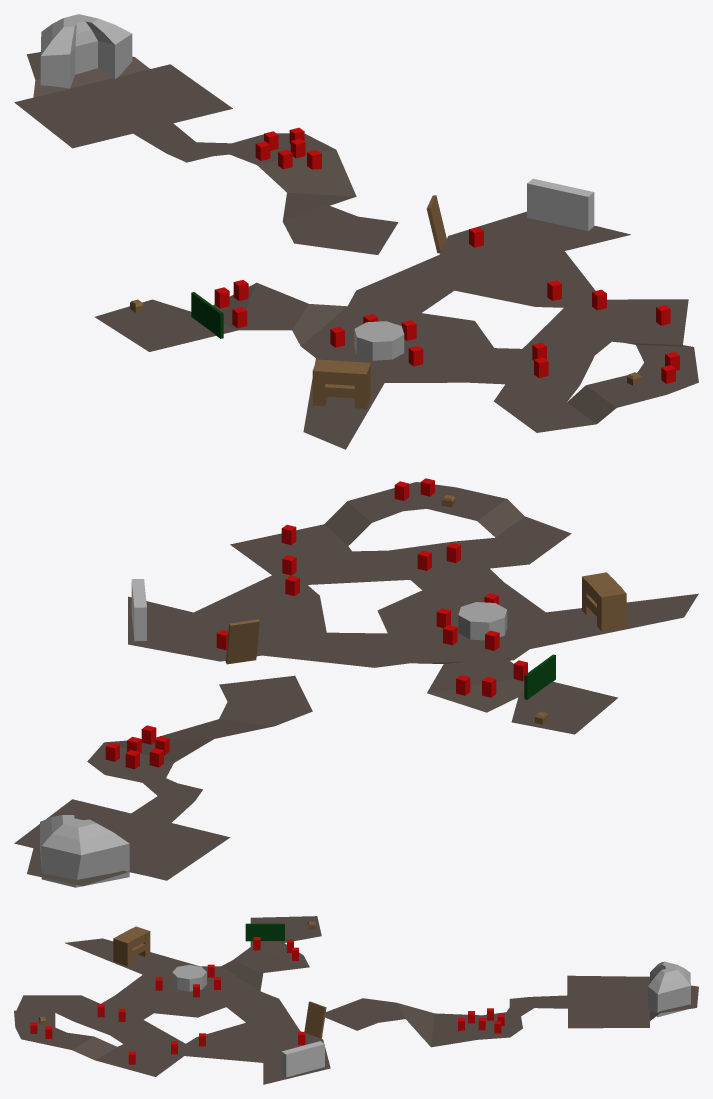
File: BlockingLvl1.fbx
The picture shows the model from 3 angles, top to bottom: view 1: azimuth 30°, elevation 25°; view 2: azimuth 150°, elevation 25°; view 3: azimuth 270°, elevation 25°; orthographic projection. The views are drawn at different scales.
Parts seen in each view (by area): view 1: Floor, Floor2, Escenario, EXIT_door, Monument, Spine_Barrier, pCube42, pCube40; view 2: Floor, Floor2, Escenario, Monument, Roll_Door, pCube39, EXIT_door, Spine_Barrier; view 3: Floor, Floor2, Escenario, EXIT_door, Monument, Spine_Barrier, Roll_Door, pCube40, pCube42.
Part boxes in pixels (x1=…): Floor: x1=95, y1=211, x2=698, y2=449; Floor2: x1=14, y1=52, x2=398, y2=254; Escenario: x1=40, y1=14, x2=132, y2=88; EXIT_door: x1=527, y1=178, x2=594, y2=230; Monument: x1=354, y1=321, x2=404, y2=360; Spine_Barrier: x1=191, y1=292, x2=223, y2=338; pCube42: x1=322, y1=360, x2=358, y2=385; pCube40: x1=354, y1=362, x2=370, y2=408; Floor: x1=128, y1=482, x2=698, y2=734; Floor2: x1=14, y1=675, x2=312, y2=885; Escenario: x1=40, y1=815, x2=129, y2=887; Monument: x1=458, y1=602, x2=507, y2=640; Roll_Door: x1=225, y1=619, x2=259, y2=664; pCube39: x1=597, y1=589, x2=626, y2=631; EXIT_door: x1=131, y1=579, x2=146, y2=641; Spine_Barrier: x1=524, y1=654, x2=555, y2=699; Floor: x1=14, y1=916, x2=330, y2=1084; Floor2: x1=325, y1=975, x2=698, y2=1047; Escenario: x1=648, y1=961, x2=690, y2=1016; EXIT_door: x1=281, y1=1041, x2=324, y2=1077; Monument: x1=172, y1=964, x2=206, y2=991; Spine_Barrier: x1=245, y1=923, x2=284, y2=941; Roll_Door: x1=304, y1=1001, x2=326, y2=1038; pCube40: x1=113, y1=936, x2=132, y2=966; pCube42: x1=118, y1=928, x2=145, y2=948.
Size of what is drawn, in the model's own units: 15.19 by 2.05 by 27.08.
